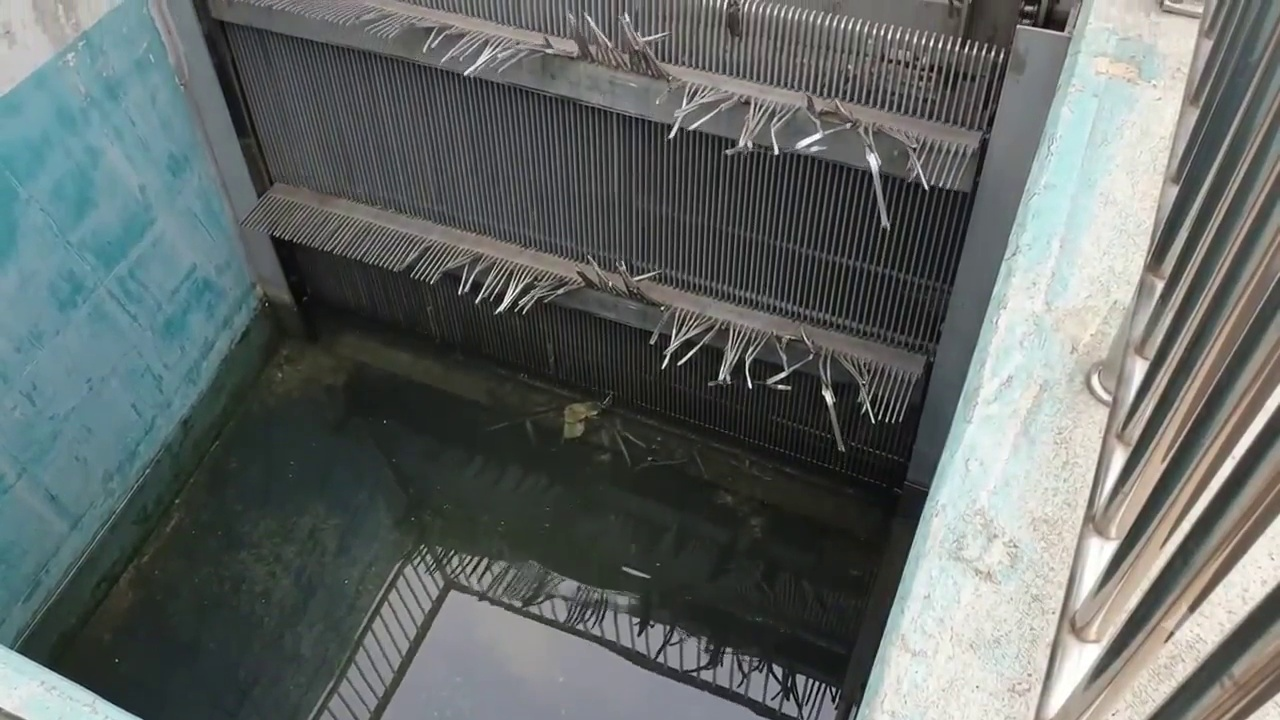damage: (339, 5, 939, 231), (388, 239, 888, 428)
